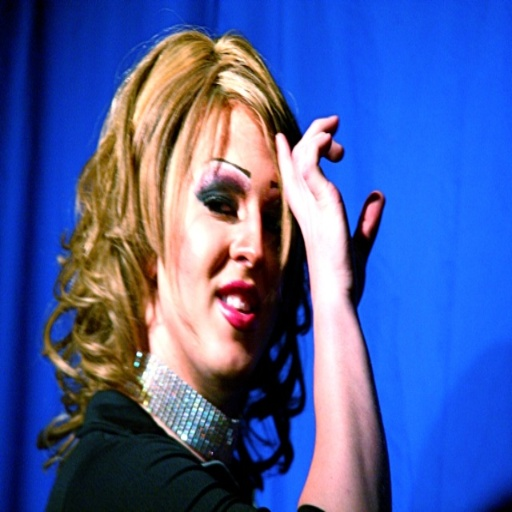hand: (271, 112, 385, 308)
